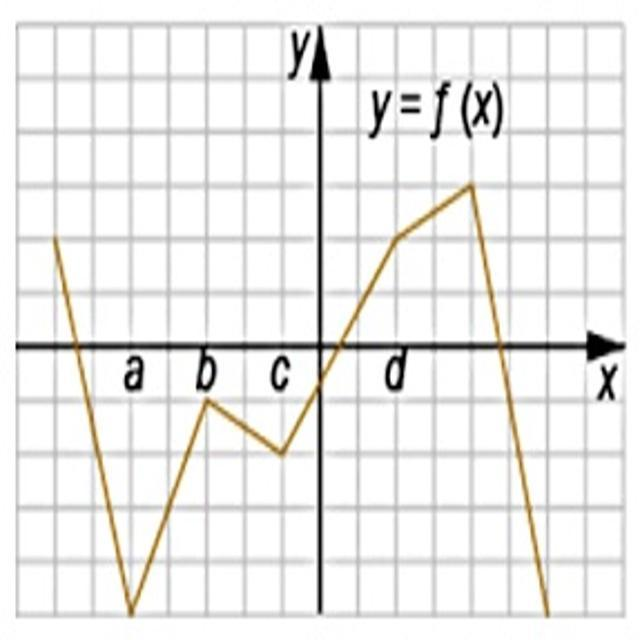axis: (16, 339, 640, 353), (315, 15, 326, 620)
line: (50, 177, 553, 623)
